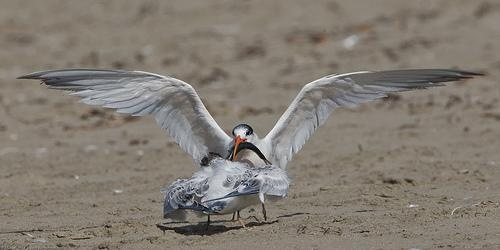bird: (17, 60, 482, 192)
